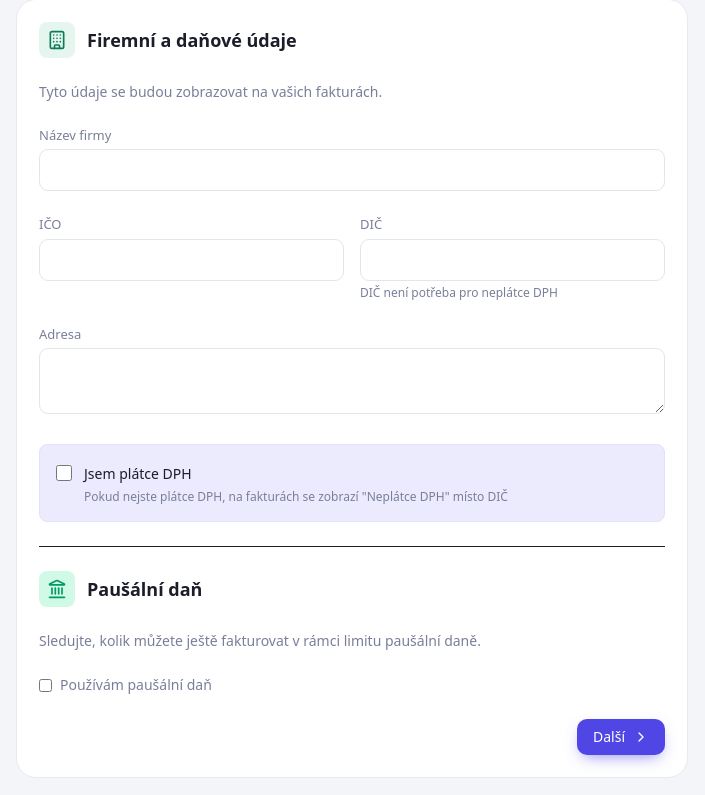
Test case: Onboarding Component › clicking "Další" advances to step 2
(page scrolled)
Click the button "Další". click: {"x": 621, "y": 737}
box: x1=577 y1=719 x2=665 y2=755
(page scrolled)
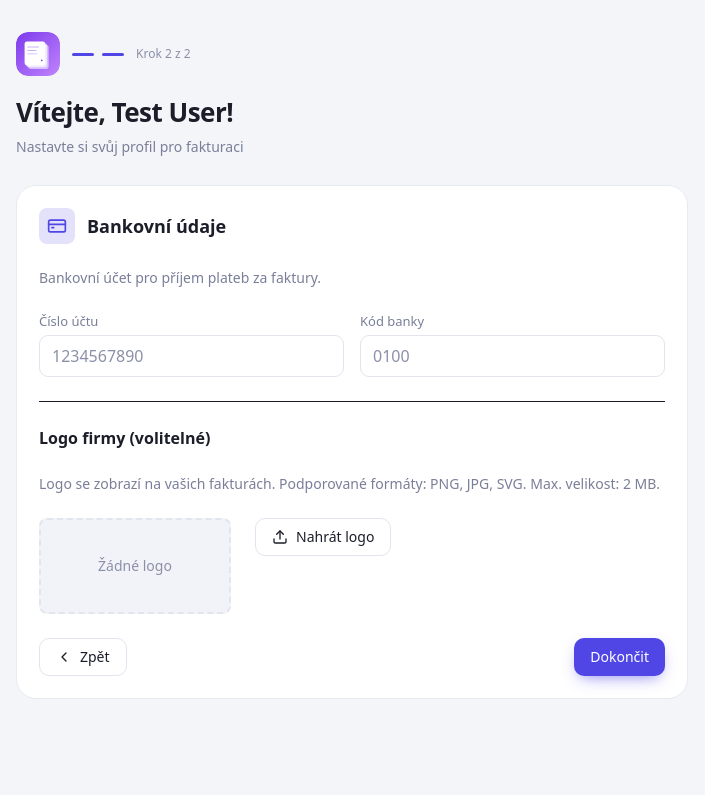
Result: the heading "Bankovní údaje" is shown at x1=87 y1=212 x2=226 y2=240
Result: the field named "bankAccount" is shown at x1=39 y1=335 x2=344 y2=377
